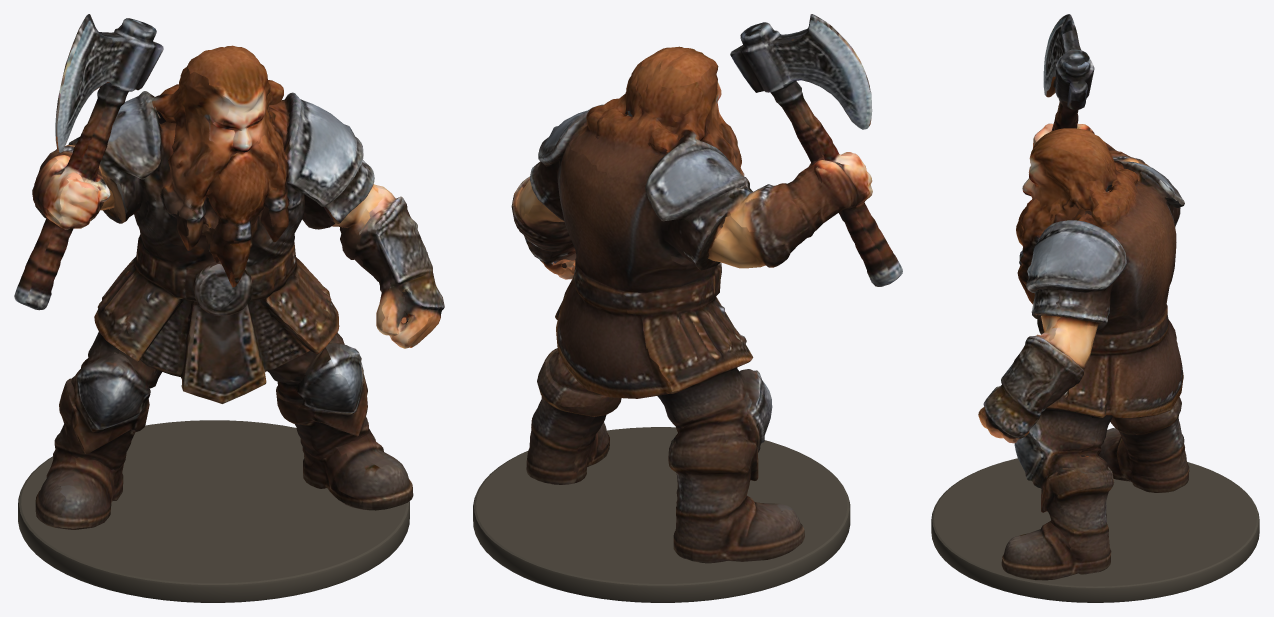
Rendered from dwarf-warrior.glb.
The picture shows the model from 3 angles, left to right: view 1: azimuth 30°, elevation 25°; view 2: azimuth 150°, elevation 25°; view 3: azimuth 270°, elevation 25°; orthographic projection. The views are drawn at different scales.
Parts seen in each view (by area): view 1: dwarf-warrior_body, dwarf-warrior_round_base; view 2: dwarf-warrior_body, dwarf-warrior_round_base; view 3: dwarf-warrior_body, dwarf-warrior_round_base.
Part boxes in pixels (left/top/right/bottom): dwarf-warrior_body: left=14, top=14, right=444, bottom=529; dwarf-warrior_round_base: left=18, top=420, right=409, bottom=602; dwarf-warrior_body: left=511, top=14, right=902, bottom=563; dwarf-warrior_round_base: left=473, top=427, right=850, bottom=602; dwarf-warrior_body: left=978, top=14, right=1189, bottom=580; dwarf-warrior_round_base: left=931, top=458, right=1259, bottom=602.
Size of the model in its own units: 1.18 by 1.55 by 1.
2 materials, 1 textured.
